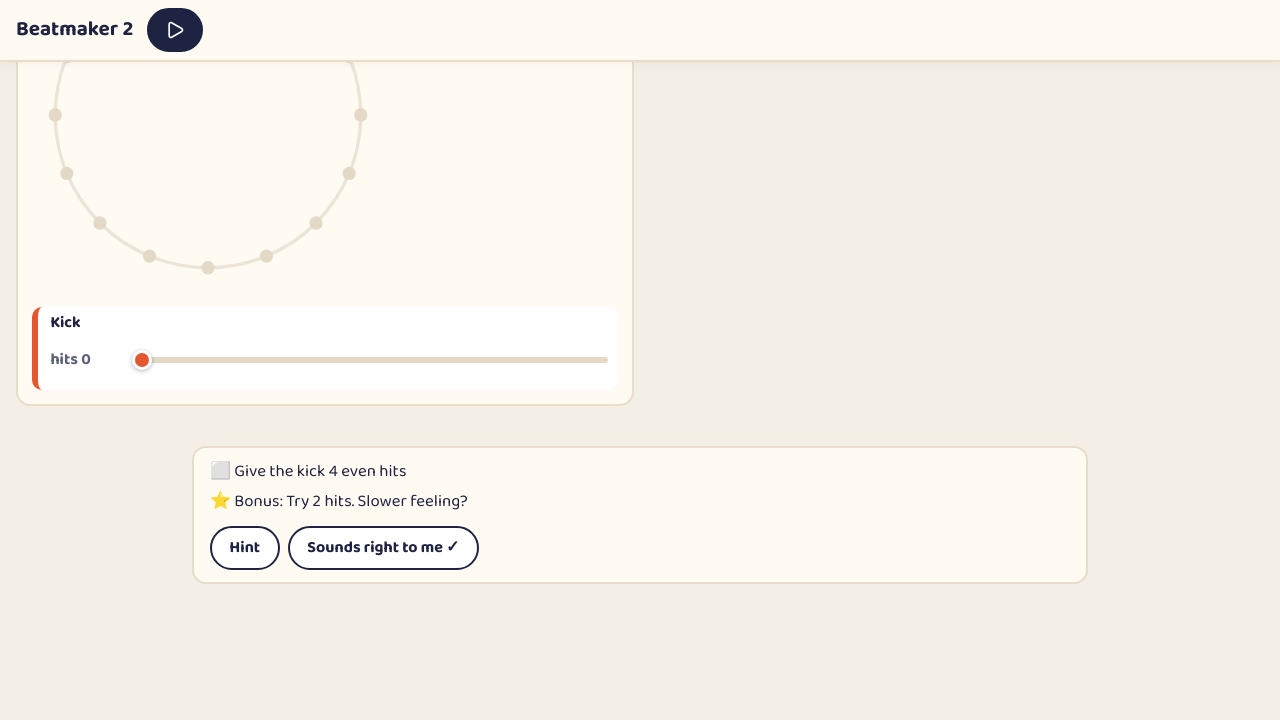
Test case: Lesson › level 1: a drag that passes 4 and is released at 8 does not complete the level
This screenshot has width=1280, height=720.
(page scrolled)
Set the slider named "Kick hits" to "4" at (255, 360), box [132,338,608,382]
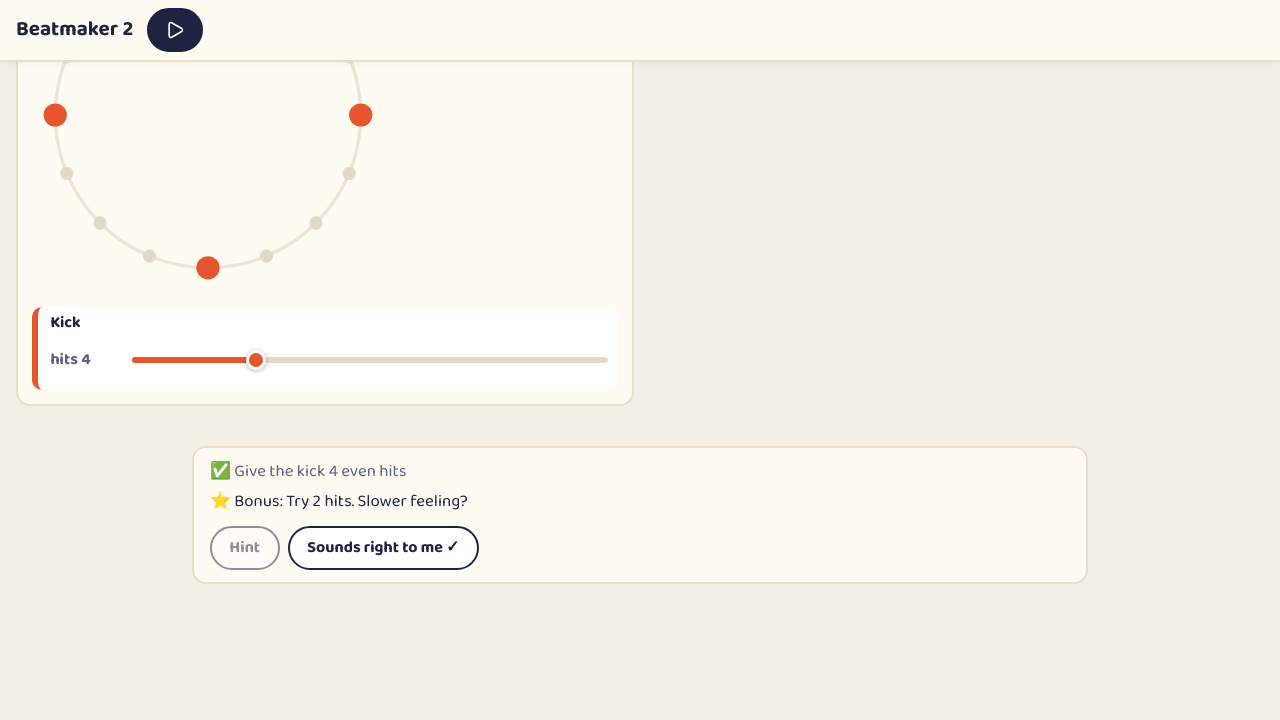
Set the slider named "Kick hits" to "8" at (370, 360), box [132,338,608,382]
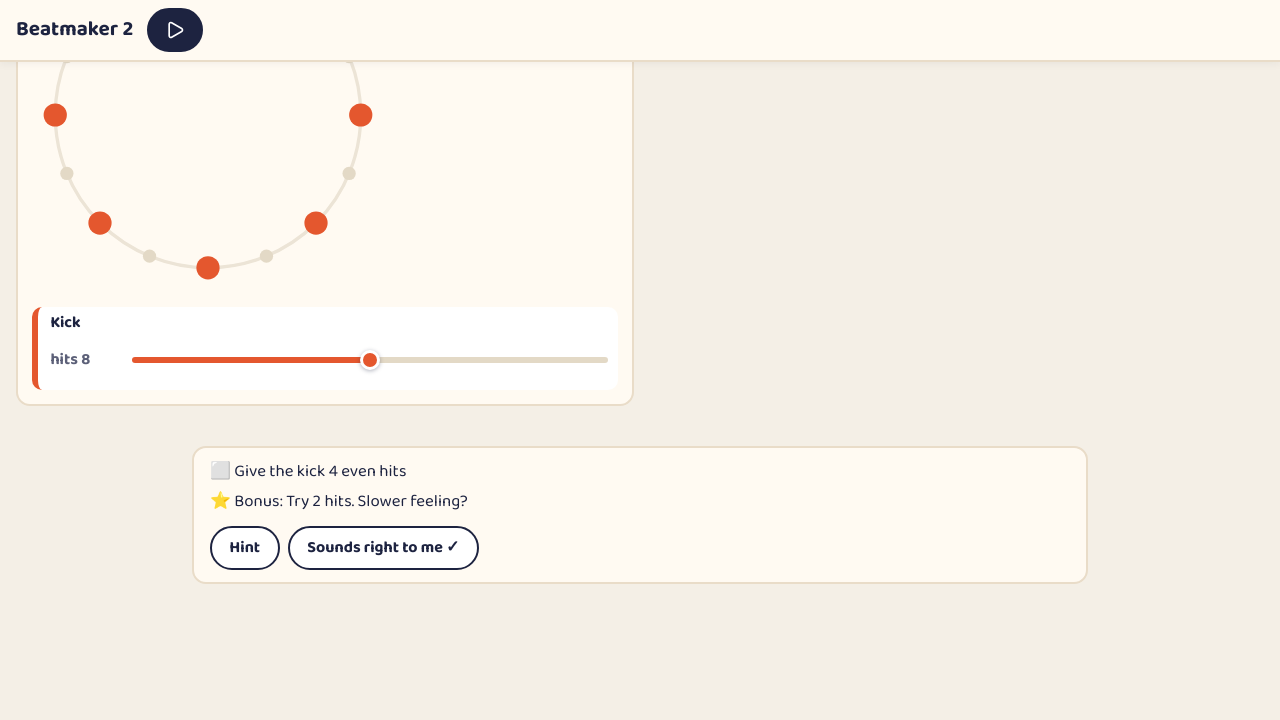
Check: the list item "Give the kick 4 even hits" shows "⬜", box [210,458,231,485]
